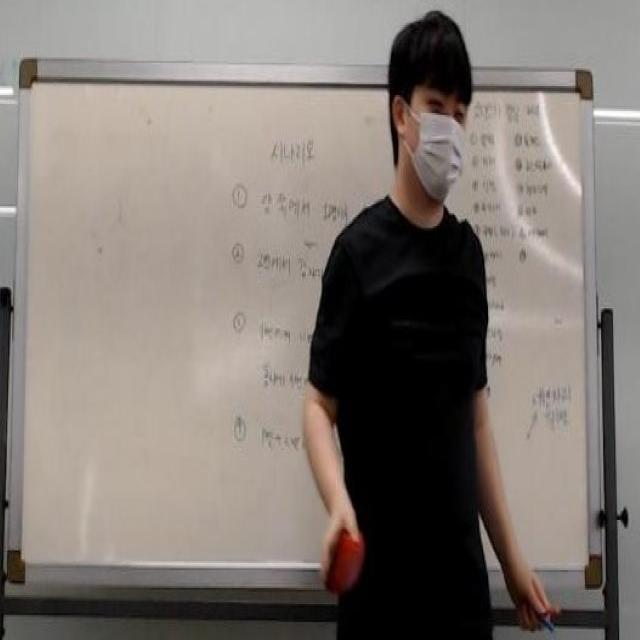Instructor: (336, 17, 494, 640)
White-board: (15, 68, 597, 582)
